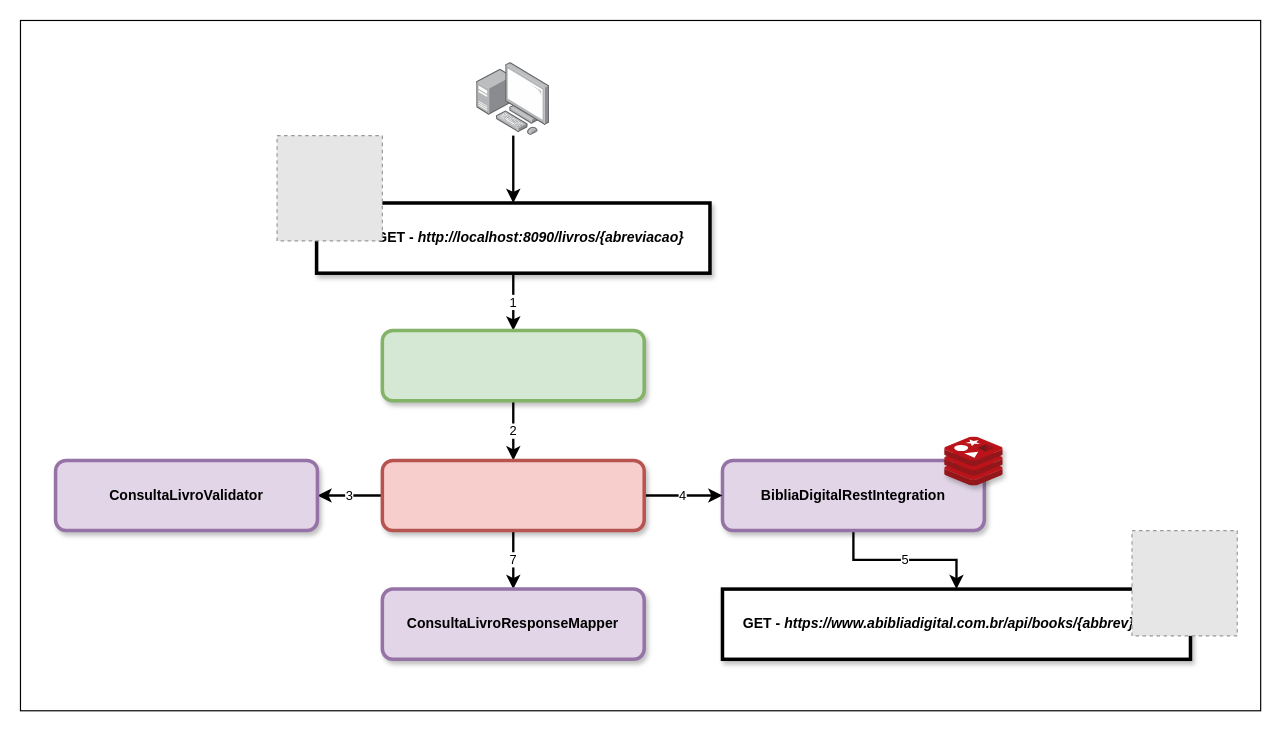
This 1281x731 diagram has some shape labels left out. Grey dashed boxes stand in for pictures. Each missing label, with the centre of its shape:
"ConsultaLivroService" goes at point 513,496.
"LivrosController.java" goes at point 513,367.
